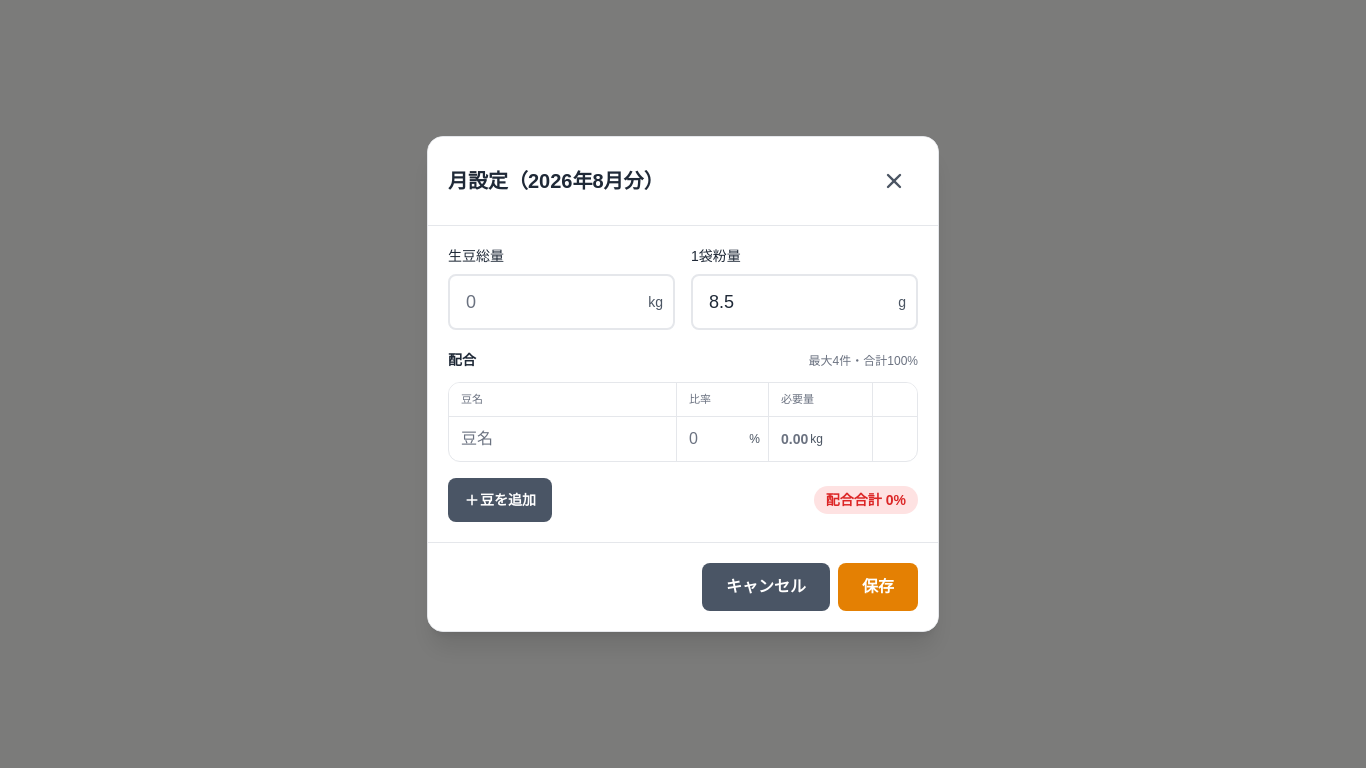
Scenario: MonthSettingsModal › 生豆総量が0だと保存できずエラーを表示する
Type "ブラジル" into the field named "豆 1".
click(563, 439); type("ブラジル")  # box [449,417,677,461]
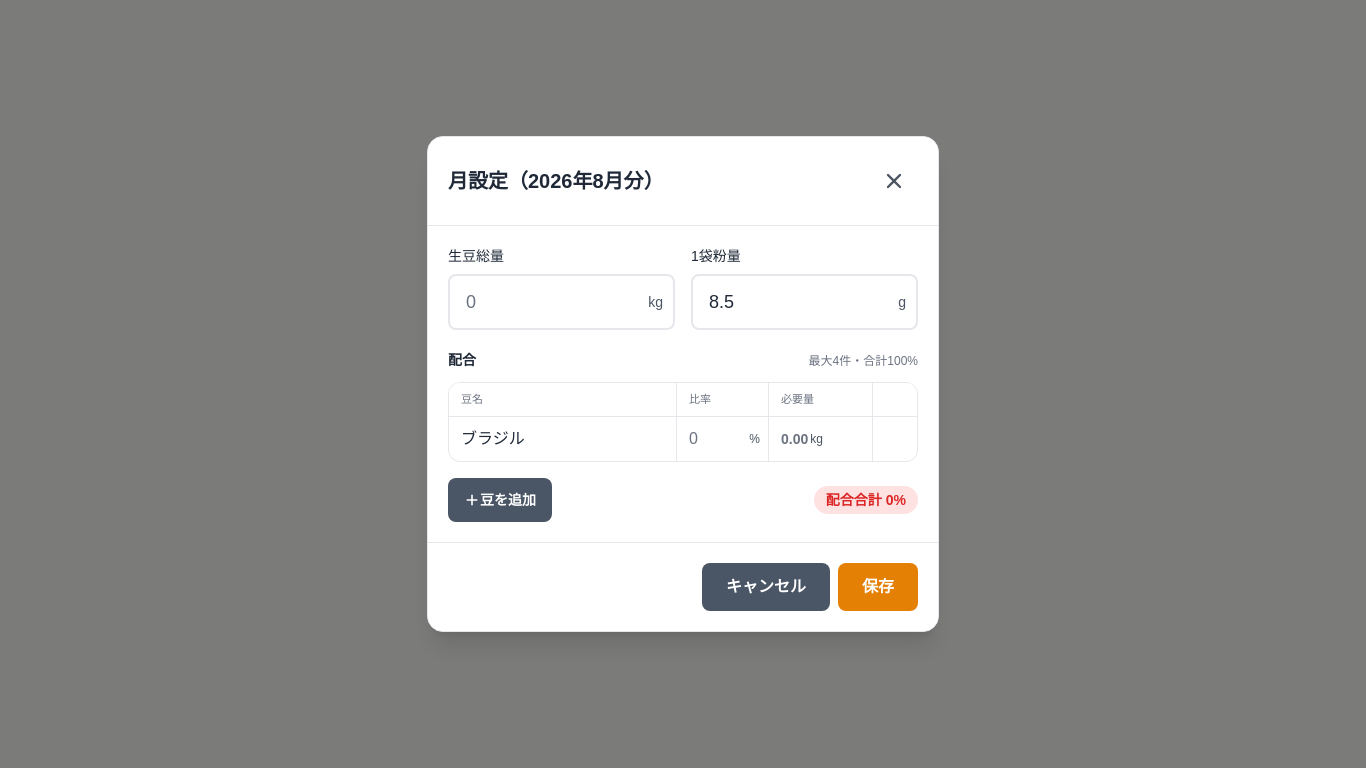
Type "100" into the number field named "比率".
click(722, 439); type("100")  # box [677,417,768,461]
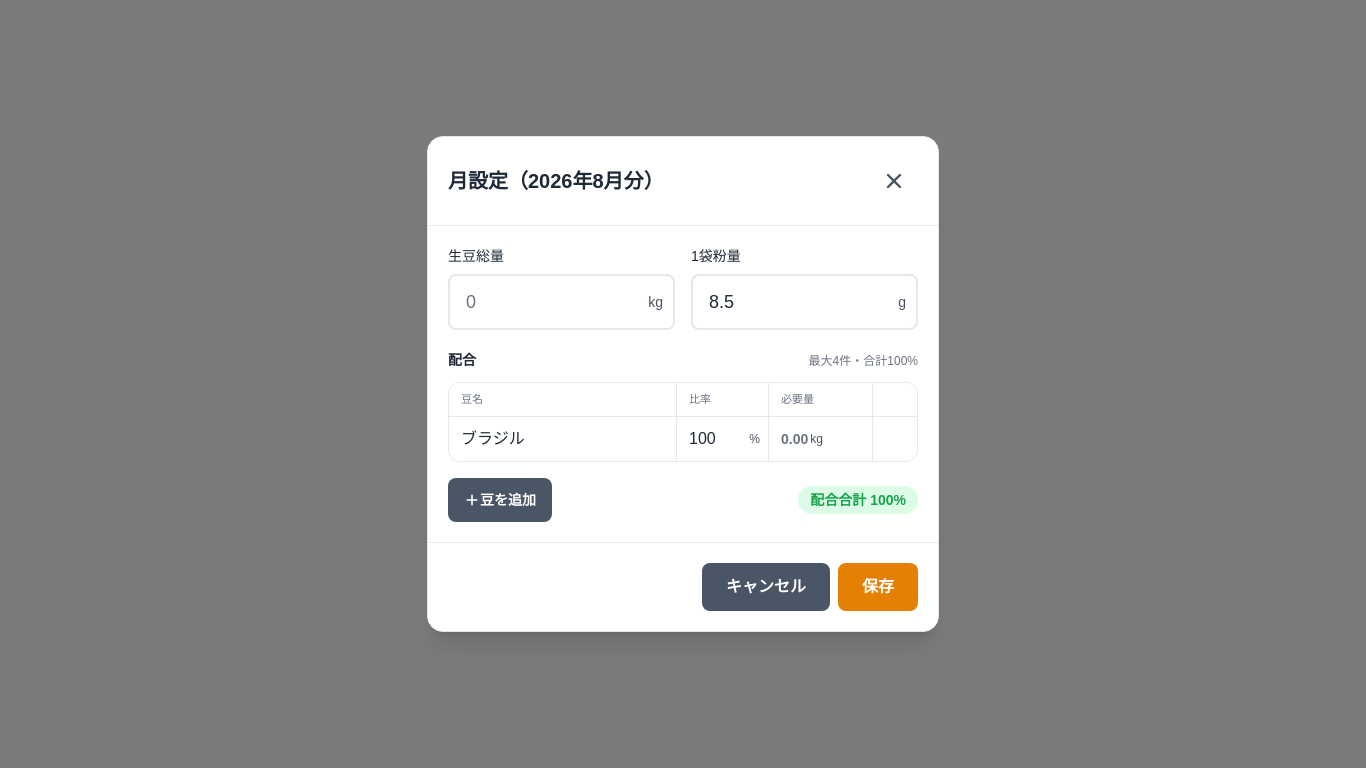
Click the button "保存".
click(878, 587)  # box [838,563,918,611]
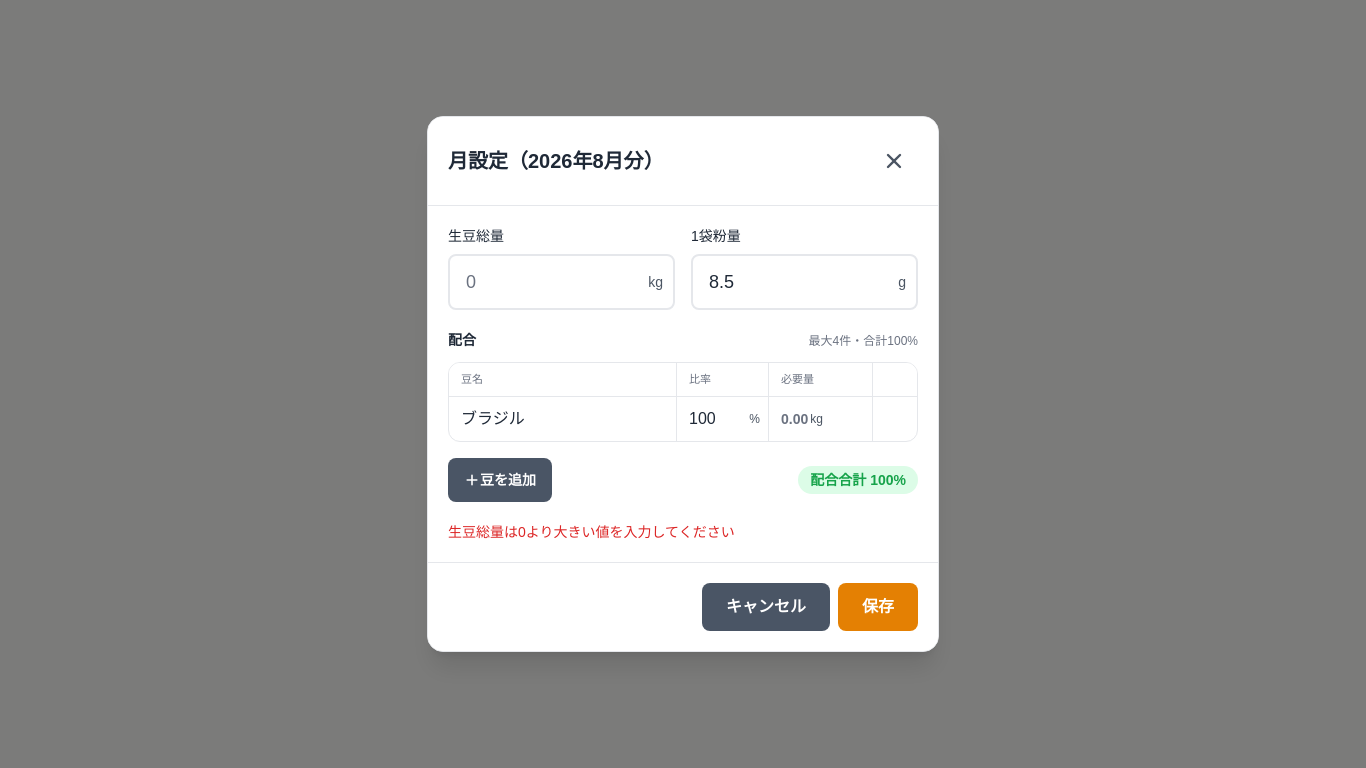
Expected: the message "生豆総量は0より大きい値を入力してください" is shown, [448,524,735,540]
